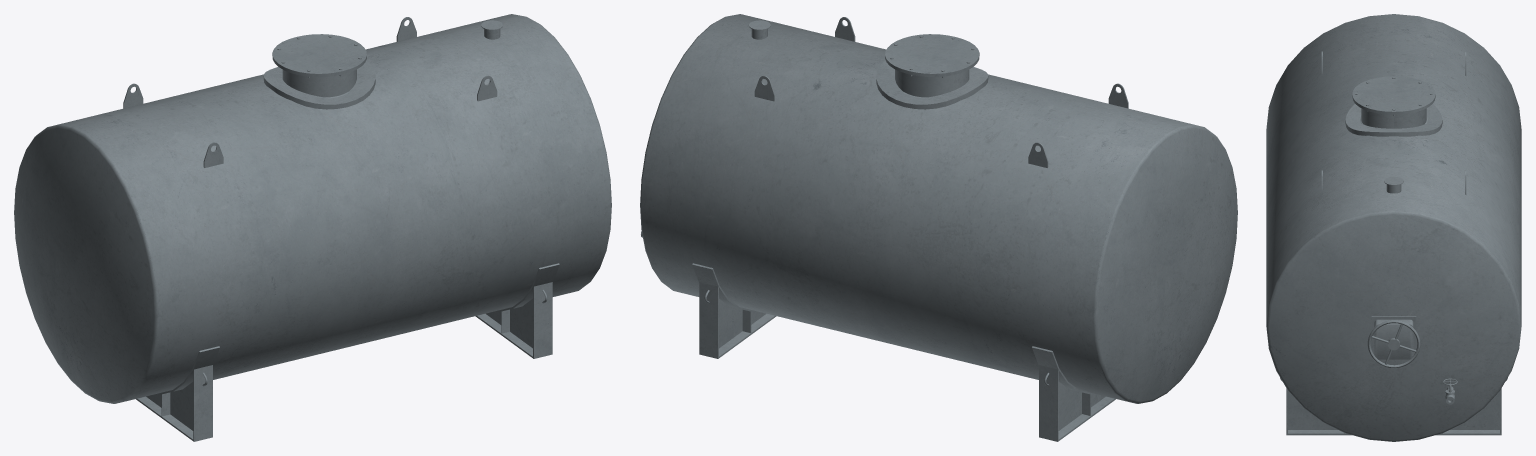
The model's file is SM_FuelTank.fbx.
3 views of the same model, side by side, from view 1: azimuth 30°, elevation 25°; view 2: azimuth 150°, elevation 25°; view 3: azimuth 270°, elevation 25° (orthographic). The views are drawn at different scales.
Parts seen in each view (by area): view 1: SM_FuelTank_LOD0; view 2: SM_FuelTank_LOD0; view 3: SM_FuelTank_LOD0.
Boxes of the visible parts, left/top/right/bottom form: SM_FuelTank_LOD0: left=14, top=14, right=611, bottom=441; SM_FuelTank_LOD0: left=640, top=14, right=1237, bottom=441; SM_FuelTank_LOD0: left=1266, top=14, right=1521, bottom=441.
Bounding box in the file's own units: 561 × 272 × 314.
1 material, 1 textured.
